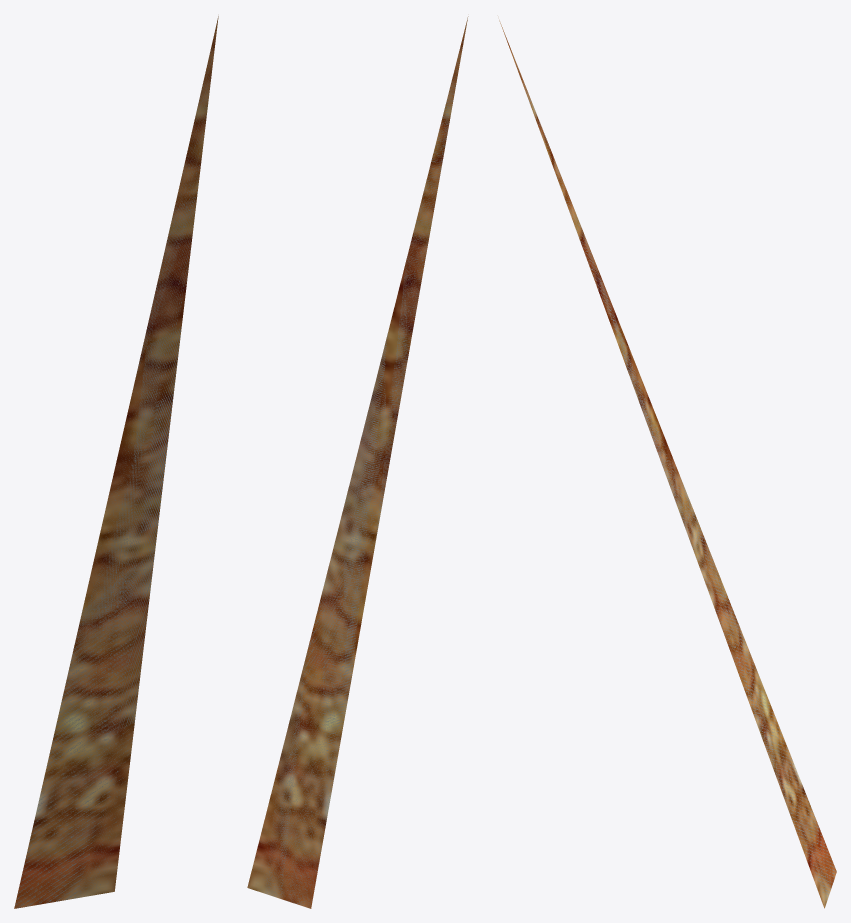
The model's file is 西庸城堡269.dae.
3 views of the same model, side by side, from view 1: azimuth 30°, elevation 25°; view 2: azimuth 150°, elevation 25°; view 3: azimuth 270°, elevation 25° (orthographic). The views are drawn at different scales.
Parts seen in each view (by area): view 1: SketchUp; view 2: SketchUp; view 3: SketchUp.
Boxes of the visible parts, box(x1,y1,x2,y2) form: SketchUp: box(14, 16, 218, 908); SketchUp: box(247, 16, 468, 908); SketchUp: box(499, 20, 836, 908).
Bounding box in the file's own units: 11.35 × 42.47 × 118.
